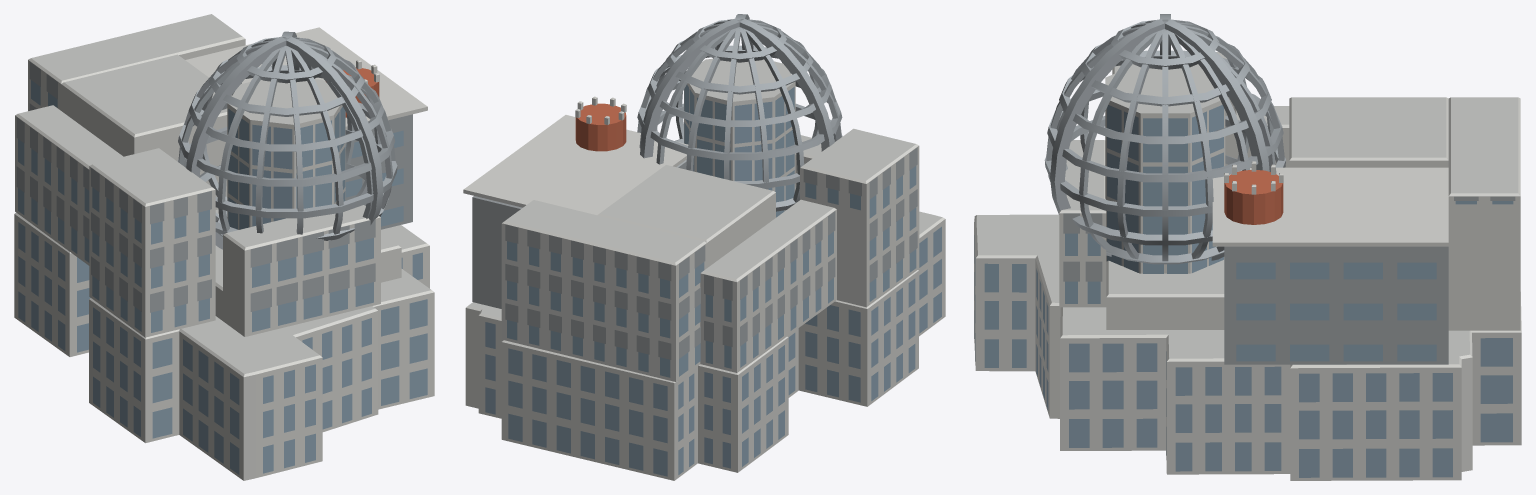
File: sd-central-library.glb
3 views of the same model, side by side, from view 1: azimuth 30°, elevation 25°; view 2: azimuth 150°, elevation 25°; view 3: azimuth 270°, elevation 25° (orthographic). The views are drawn at different scales.
Visible parts, largest first — view 1: San Diego Central Library; view 2: San Diego Central Library; view 3: San Diego Central Library.
Boxes of the visible parts, <box> form: San Diego Central Library: <box>14,14,434,480</box>; San Diego Central Library: <box>463,14,945,480</box>; San Diego Central Library: <box>974,14,1521,480</box>.
Size of the model in its own units: 70.19 by 70.63 by 92.9.
